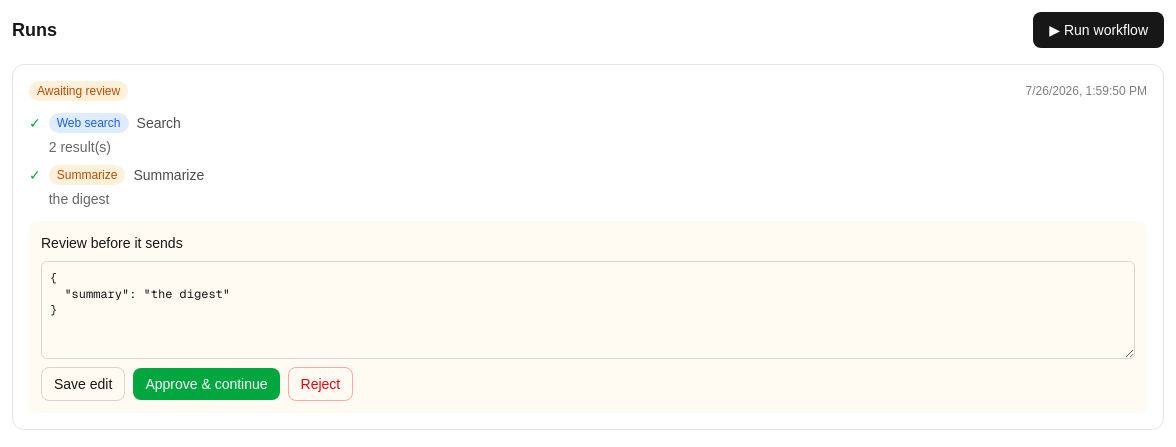
Scenario: RunsPanel › approves a paused run
Click the button "Approve & continue".
click(206, 384)  # box [133, 368, 280, 400]
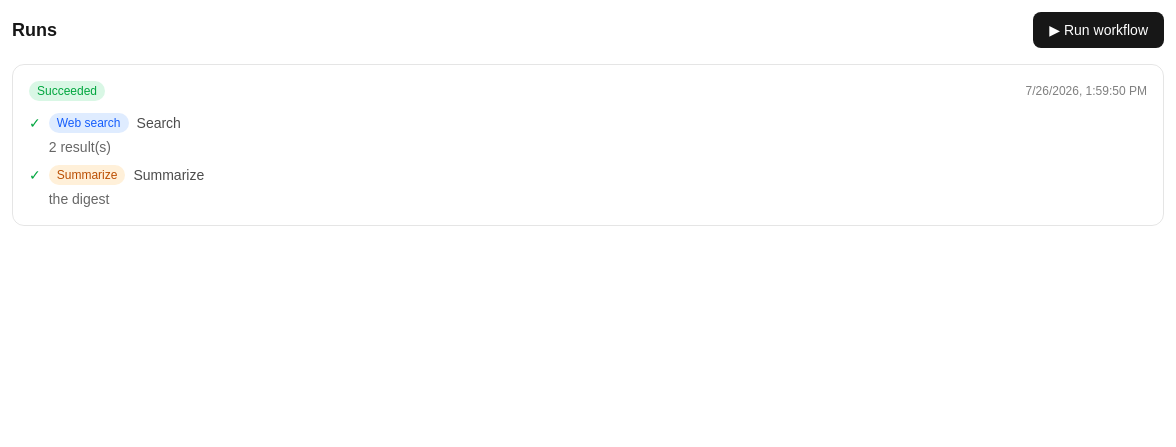
Expected: the text "Succeeded" is shown, [29, 81, 105, 101]
